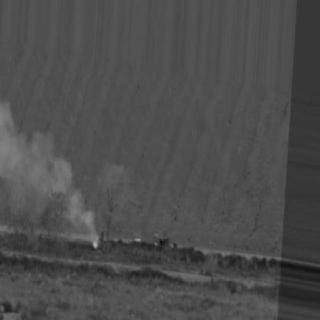Fire: (88, 230, 102, 257)
